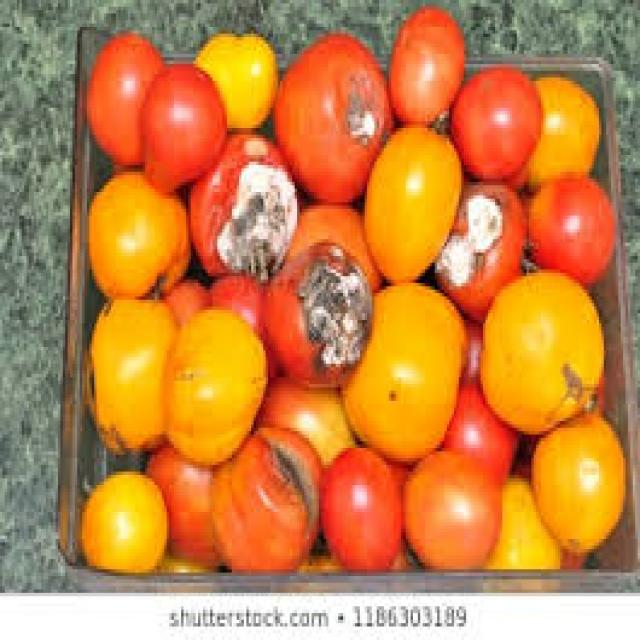organic waste: (338, 279, 459, 462), (478, 266, 604, 431), (270, 30, 389, 202), (360, 104, 459, 283), (208, 424, 321, 572), (162, 303, 261, 468), (183, 128, 294, 273), (259, 239, 367, 384), (529, 404, 623, 556), (84, 165, 186, 303), (85, 293, 169, 455), (430, 178, 524, 316), (401, 445, 497, 566), (82, 27, 164, 165), (449, 64, 544, 179), (140, 57, 222, 189), (319, 438, 401, 569), (143, 441, 225, 566), (248, 367, 352, 462), (386, 3, 464, 122), (524, 172, 614, 273), (280, 196, 379, 286), (519, 71, 599, 182), (194, 27, 276, 131), (80, 465, 164, 566), (208, 266, 275, 377), (486, 468, 560, 563), (440, 388, 514, 472), (159, 273, 208, 330), (461, 306, 481, 381), (152, 549, 220, 566), (297, 546, 341, 566), (386, 454, 411, 482), (558, 549, 584, 566)
